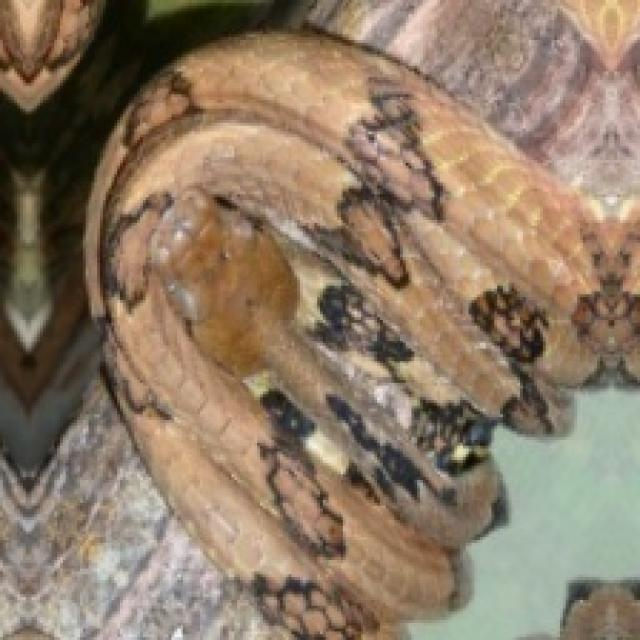dog-toothed cat snake: (89, 31, 606, 637)
